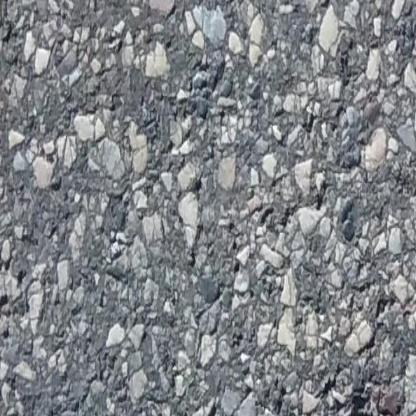Cracks: (297, 405, 416, 416)
